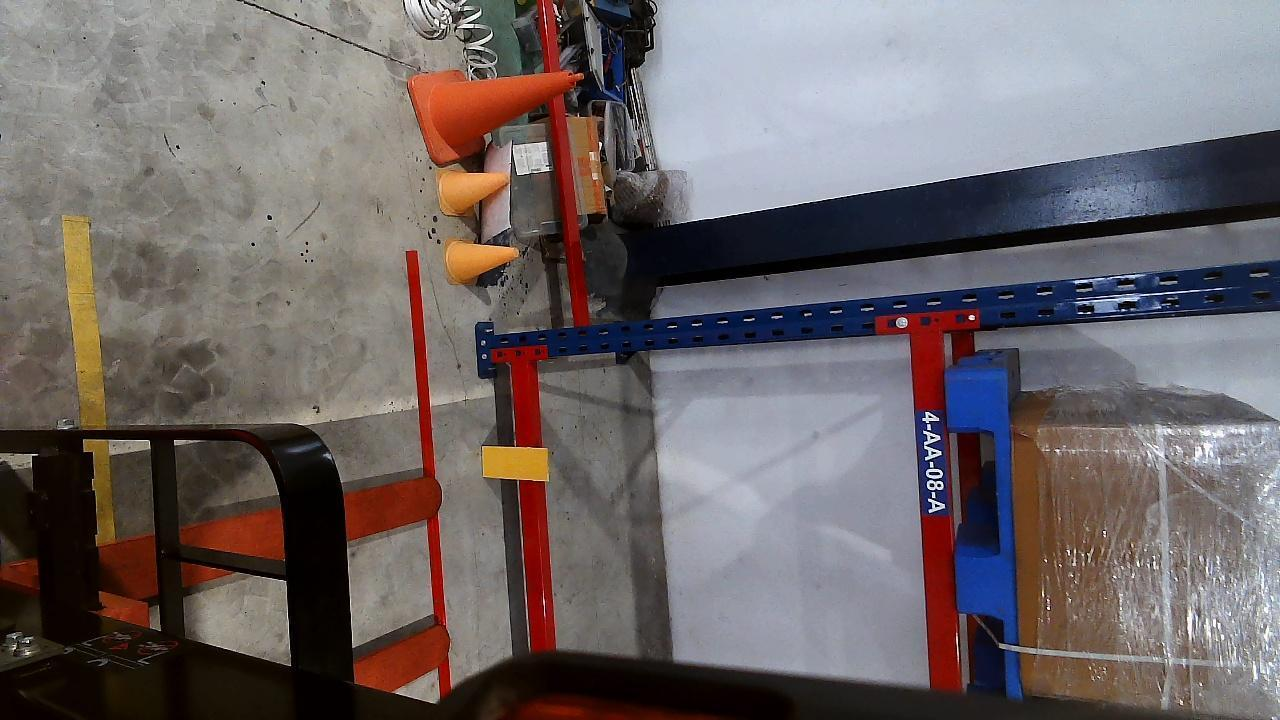red_line: (405, 252, 445, 656)
yellow_line: (60, 214, 106, 426)
